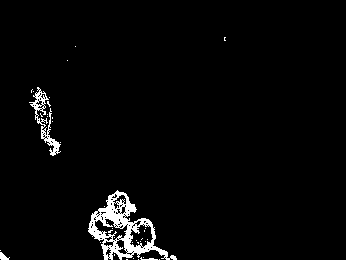person: (86, 188, 128, 260), (31, 87, 63, 157), (126, 219, 164, 260)
